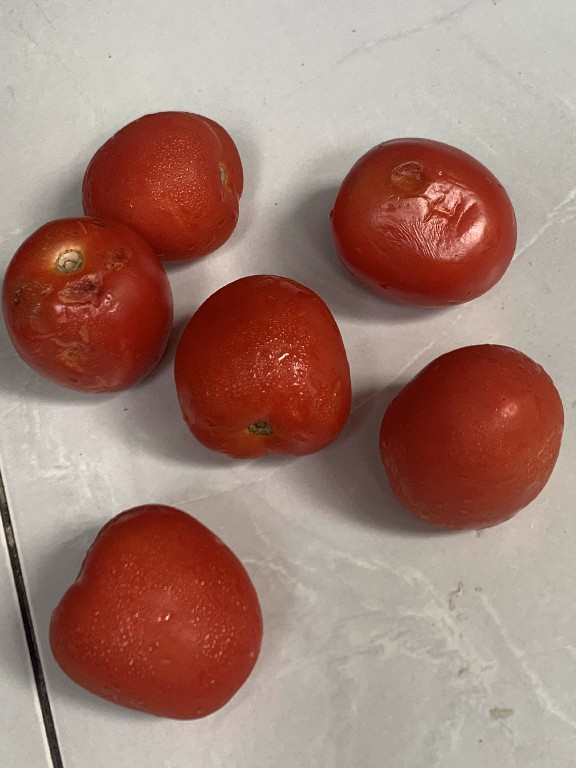NG: (324, 133, 524, 310), (1, 205, 173, 389)
OK: (39, 499, 284, 730), (371, 339, 573, 534), (174, 273, 351, 460), (80, 104, 248, 267)
